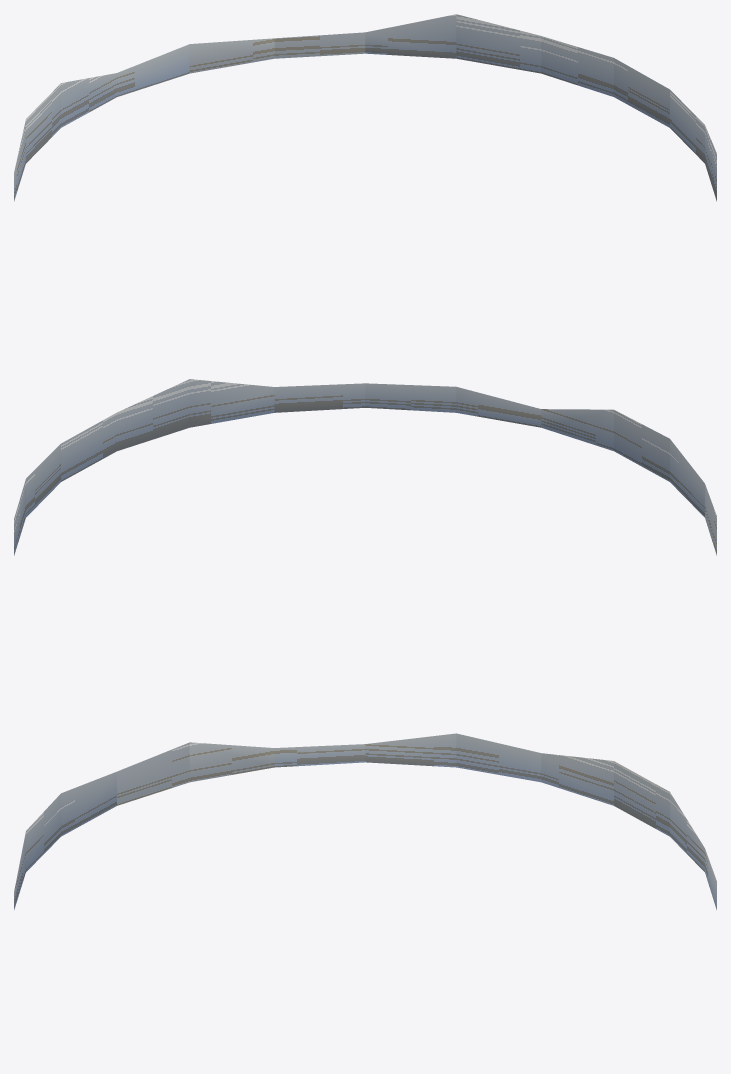
The model's file is mter.backdrop__hills.glb.
The picture shows the model from 3 angles, top to bottom: view 1: azimuth 30°, elevation 25°; view 2: azimuth 150°, elevation 25°; view 3: azimuth 270°, elevation 25°; orthographic projection.
Visible parts, largest first — view 1: kit_shell_vista; view 2: kit_shell_vista; view 3: kit_shell_vista.
Part boxes in pixels (bbox=[...]): kit_shell_vista: bbox=[14, 14, 716, 201]; kit_shell_vista: bbox=[14, 379, 716, 555]; kit_shell_vista: bbox=[14, 733, 716, 909].
Size of the model in its own units: 520 by 39.72 by 520.
Materials: 1 (1 with a texture image).
